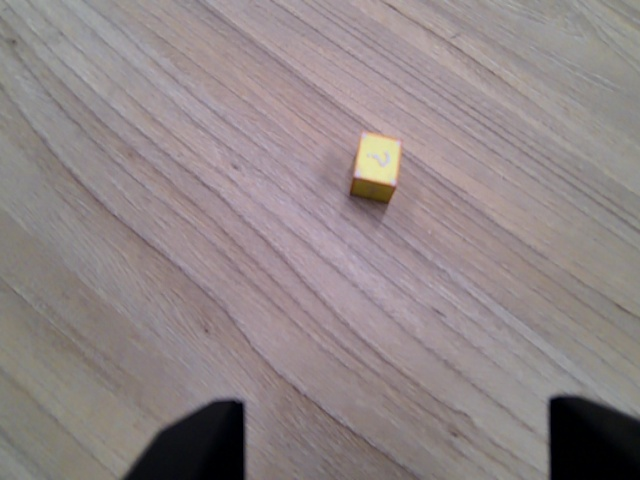lucky: (348, 128, 405, 206)
